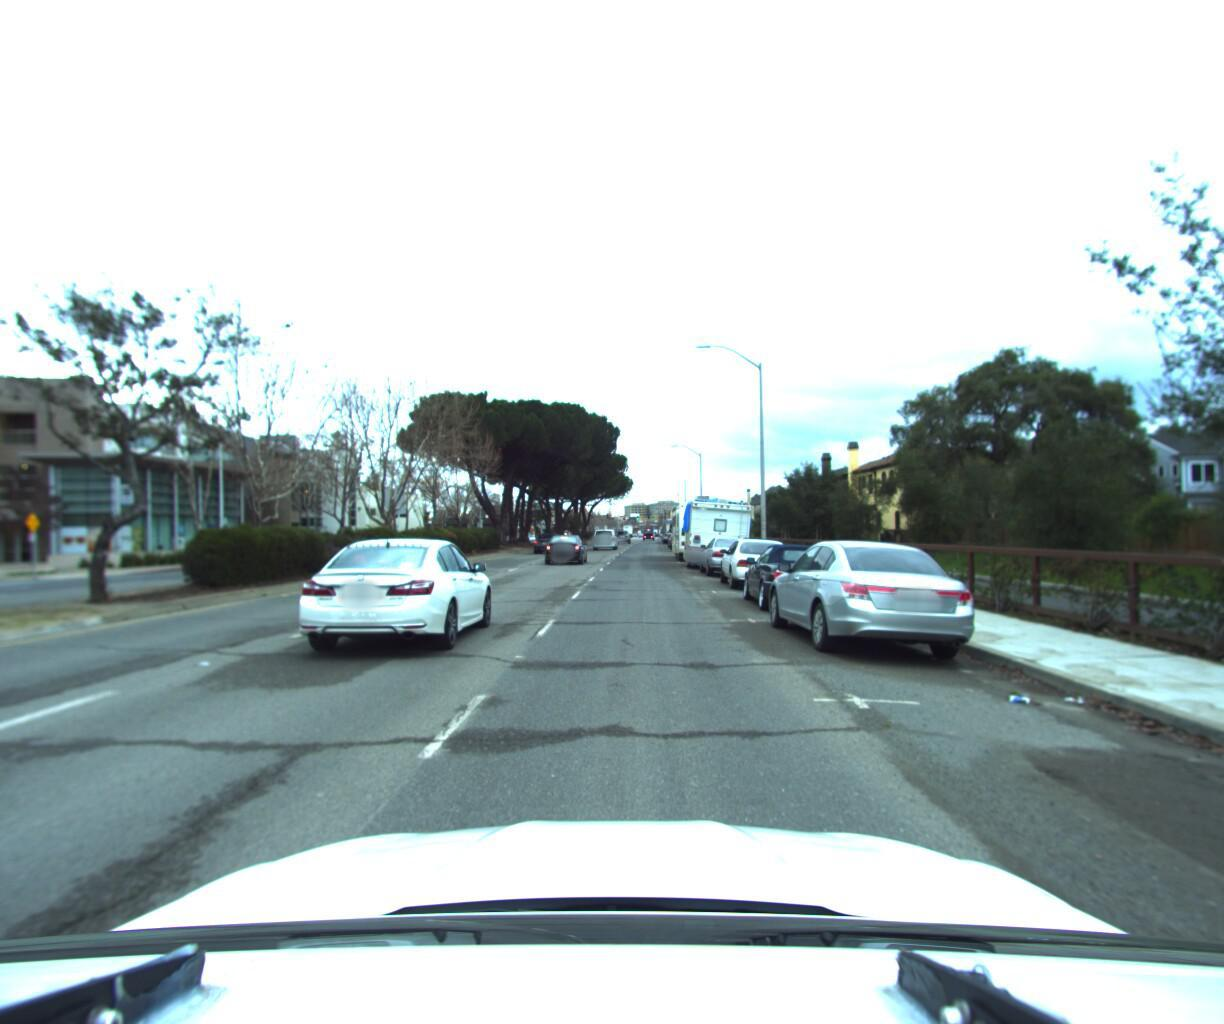car: (755, 532, 986, 668), (288, 532, 499, 665), (732, 536, 867, 615), (717, 531, 804, 590), (698, 531, 762, 576), (542, 528, 589, 562), (528, 528, 558, 551), (592, 525, 616, 544)
other_vehicle: (680, 495, 754, 570), (672, 496, 737, 558)
